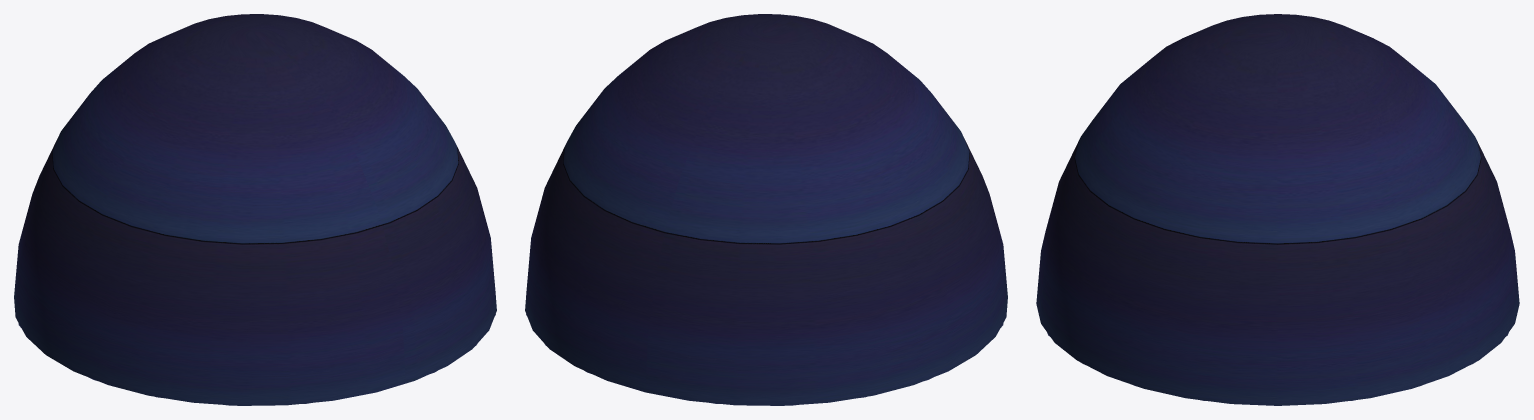
The picture shows the model from 3 angles, left to right: view 1: azimuth 30°, elevation 25°; view 2: azimuth 150°, elevation 25°; view 3: azimuth 270°, elevation 25°; orthographic projection.
Parts seen in each view (by area): view 1: Component_6; view 2: Component_6; view 3: Component_6.
Part boxes in pixels (box(x1,y1,x2,y2)): Component_6: box(14, 14, 496, 405); Component_6: box(525, 14, 1007, 405); Component_6: box(1036, 14, 1519, 405).
Bounding box in the file's own units: 45732 × 45700 × 28309.
